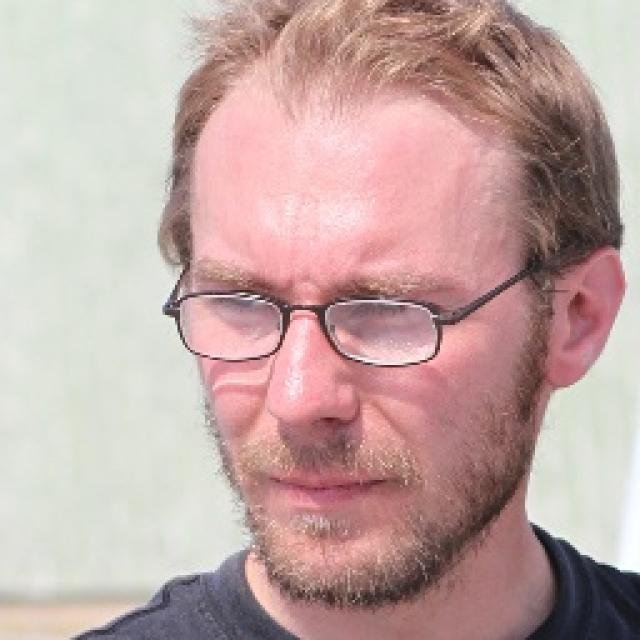earlobe: (544, 344, 586, 388)
eye: (354, 292, 423, 320), (210, 284, 273, 312)
nose: (271, 410, 351, 454)
wholeear: (544, 248, 627, 388)
